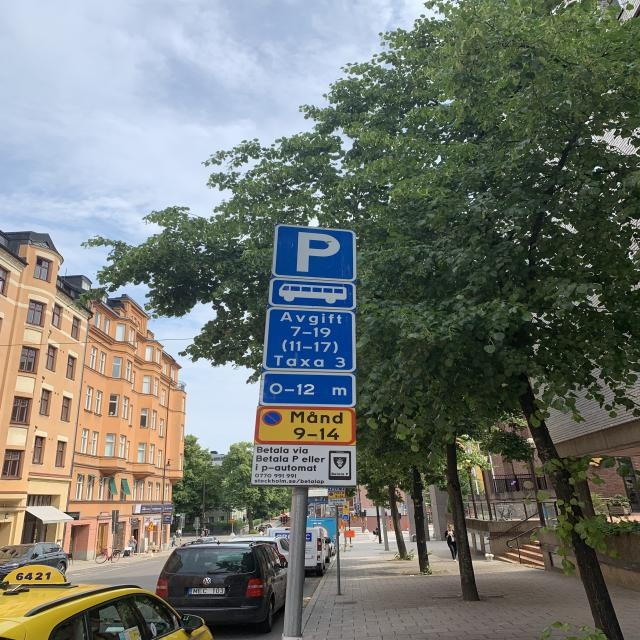P-skylt: (270, 223, 358, 283)
